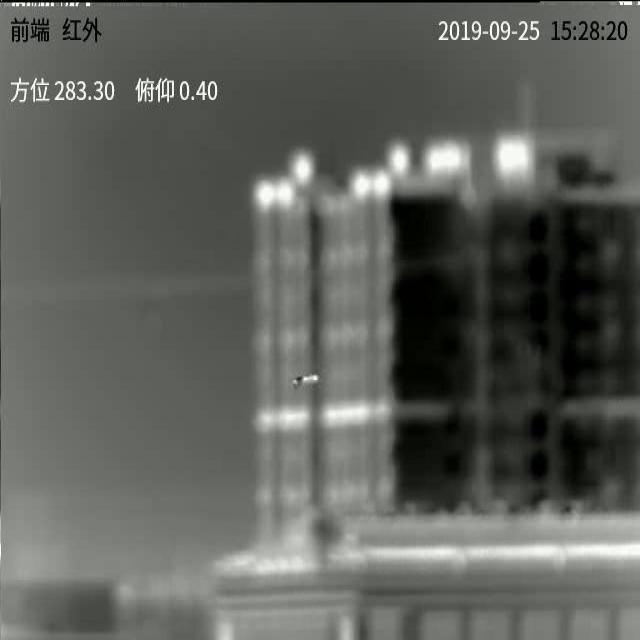drone: (292, 374, 320, 386)
